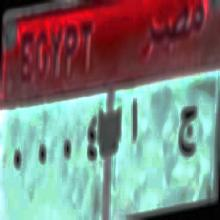0: (58, 132, 74, 166), (10, 143, 26, 176), (36, 139, 51, 173)
4: (85, 108, 100, 176)
alif: (126, 96, 144, 150)
jeem: (174, 98, 198, 169)
